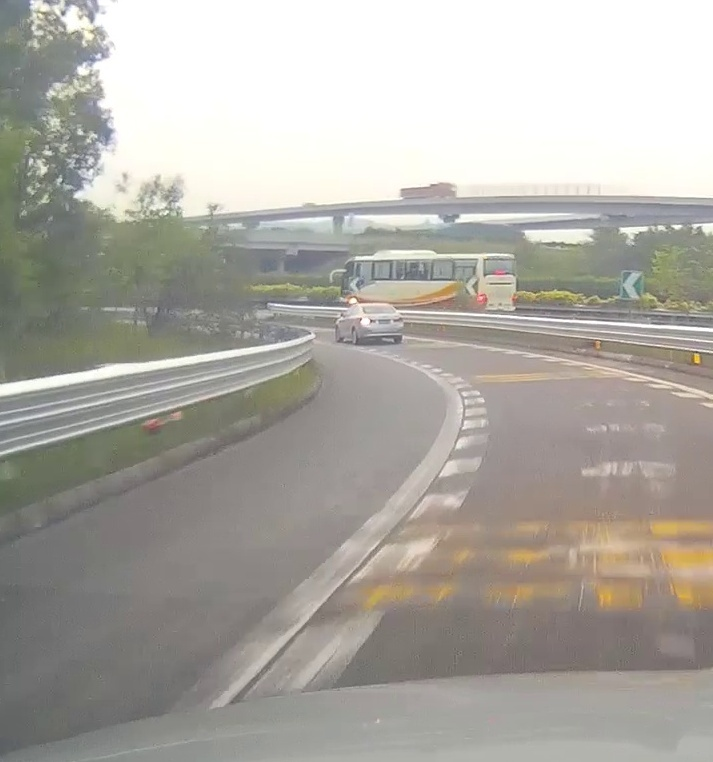L_light: (360, 318, 376, 324), (479, 295, 483, 304)
R_light: (393, 316, 403, 323), (512, 294, 517, 304)
T_light: (496, 270, 506, 274), (374, 305, 381, 308)
day-brake: (477, 253, 518, 312)
day-left: (358, 303, 404, 344)
